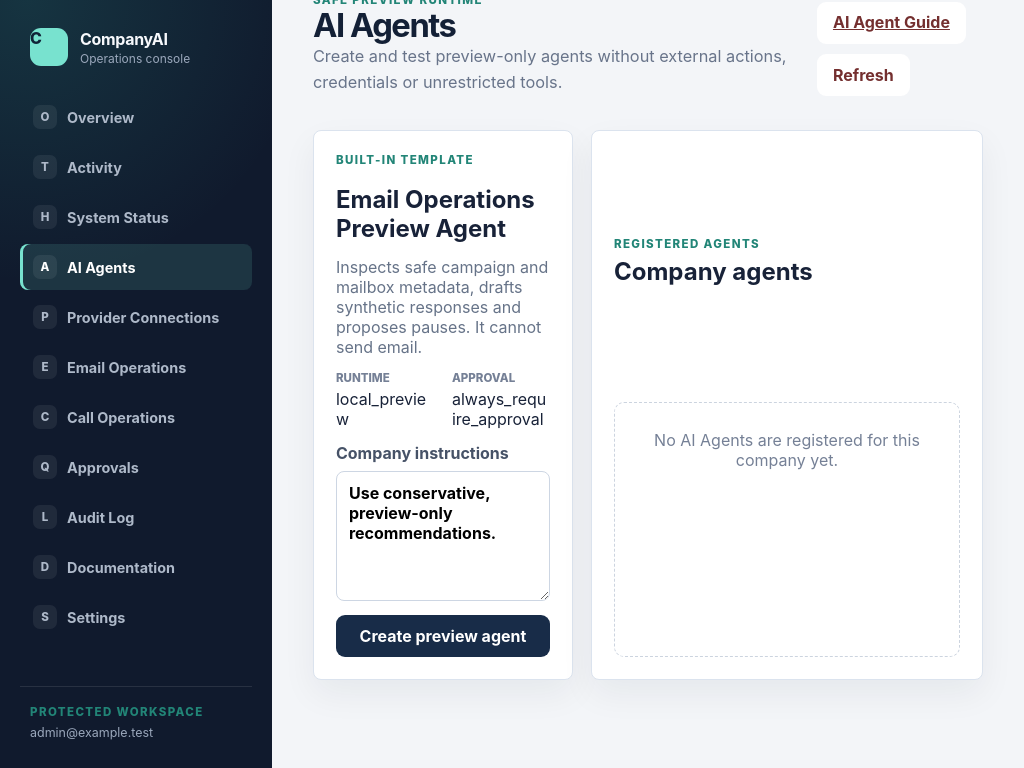
it: renders AI Agents, creates a preview agent and runs a forbidden-send denial
(page scrolled)
Check: the heading "AI Agents" is shown, box [313, 5, 456, 45]
Step 1. Click the button "Create preview agent" → [443, 636], box [336, 615, 550, 657]
(page scrolled)
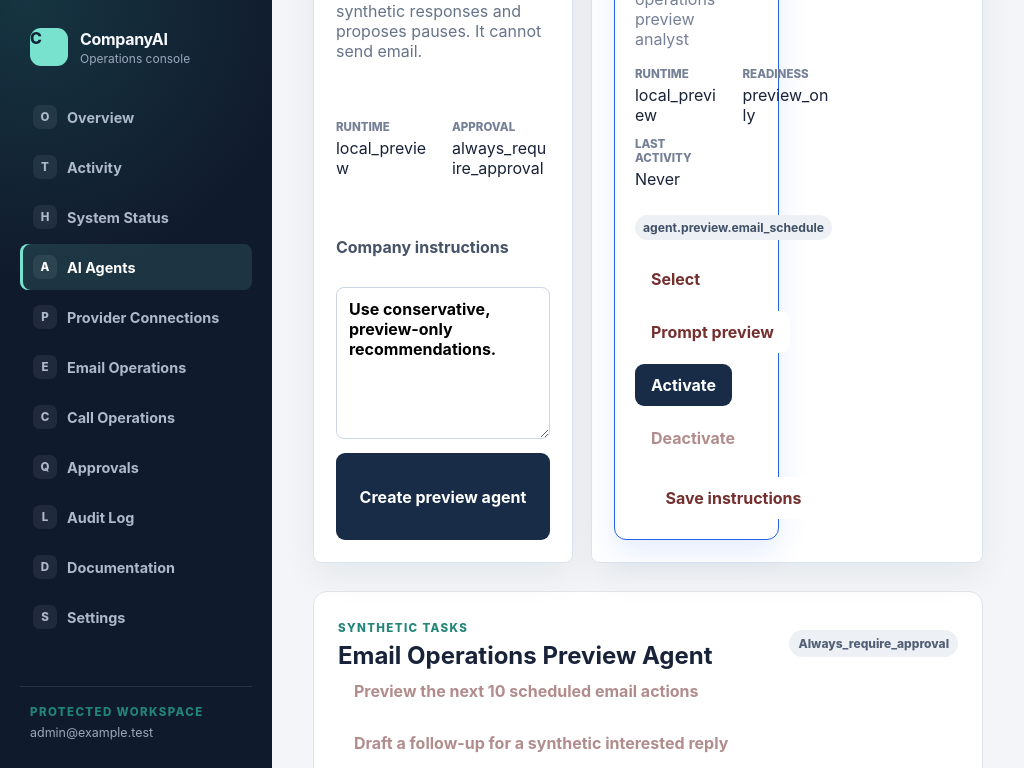
Step 2. Click the button "Activate" → [684, 385], box [635, 364, 732, 406]
(page scrolled)
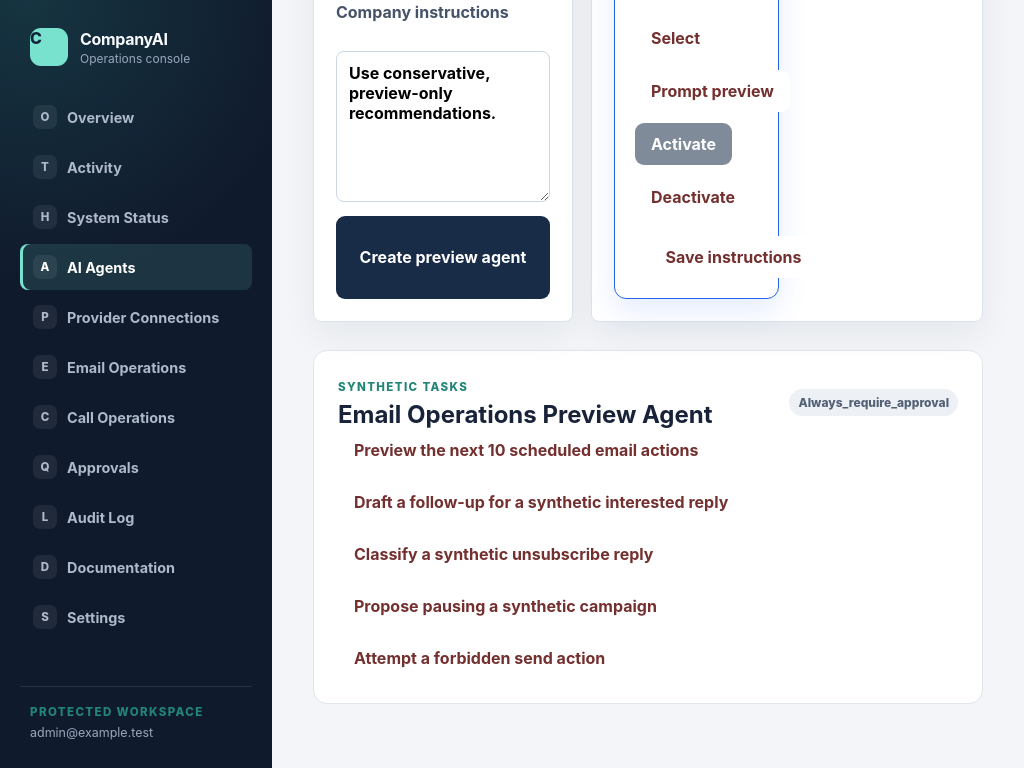
Step 3. Click the button "Attempt a forbidden send action" → [480, 658], box [338, 637, 621, 679]
(page scrolled)
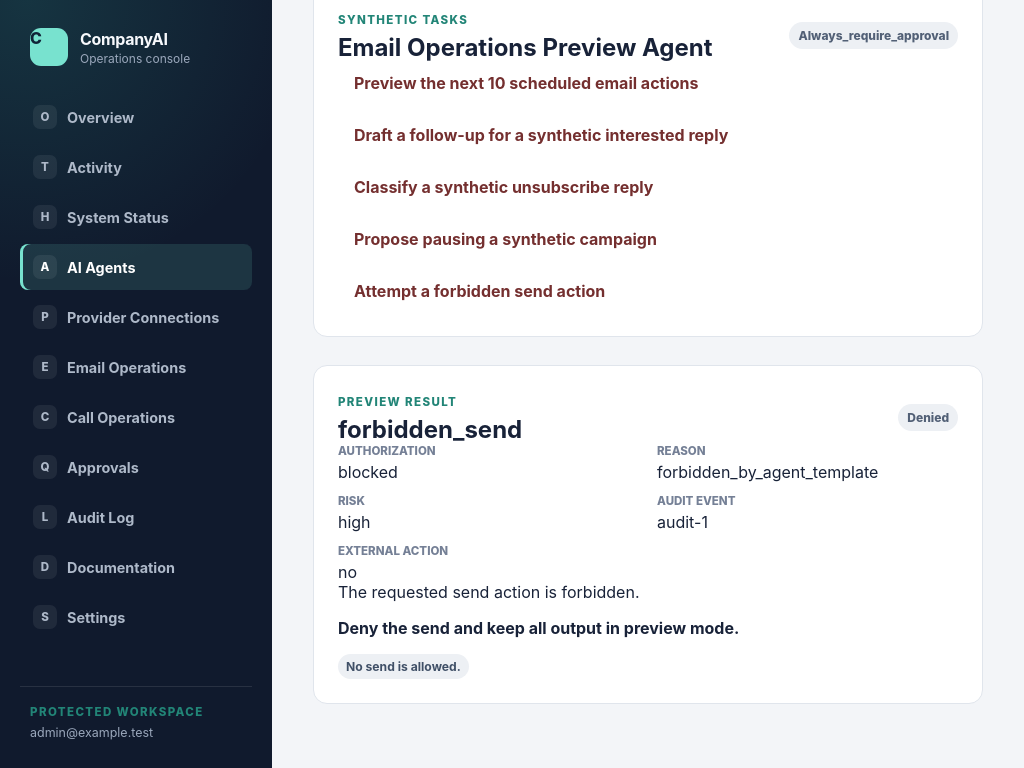
Check: the heading "forbidden_send" is shown, box [338, 415, 522, 444]
Check: the text "forbidden_by_agent_template" is shown, box [657, 462, 878, 482]
Check: the text "audit-1" is shown, box [657, 512, 708, 532]
